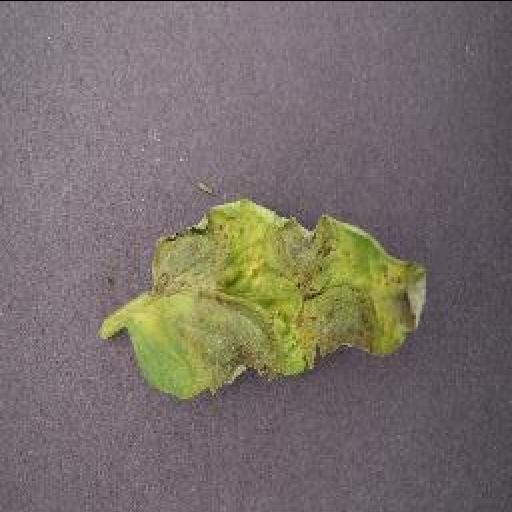disease_tomato: (128, 196, 428, 398)
